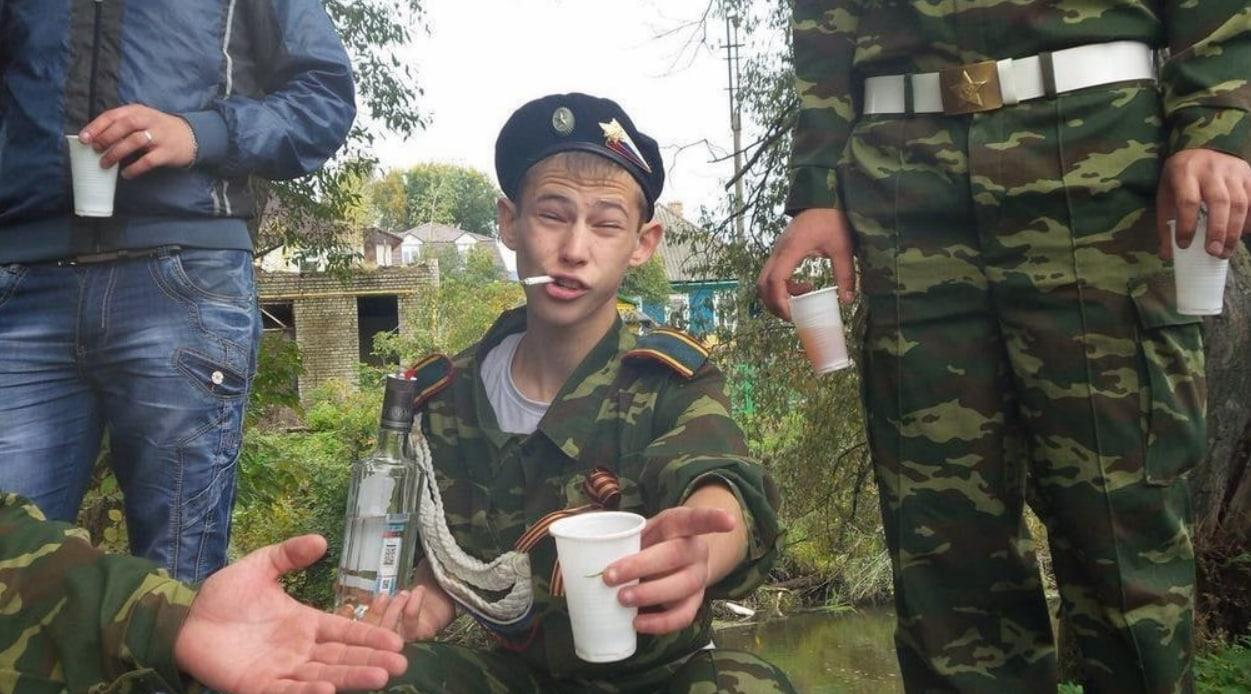cigarette: (520, 274, 555, 286)
